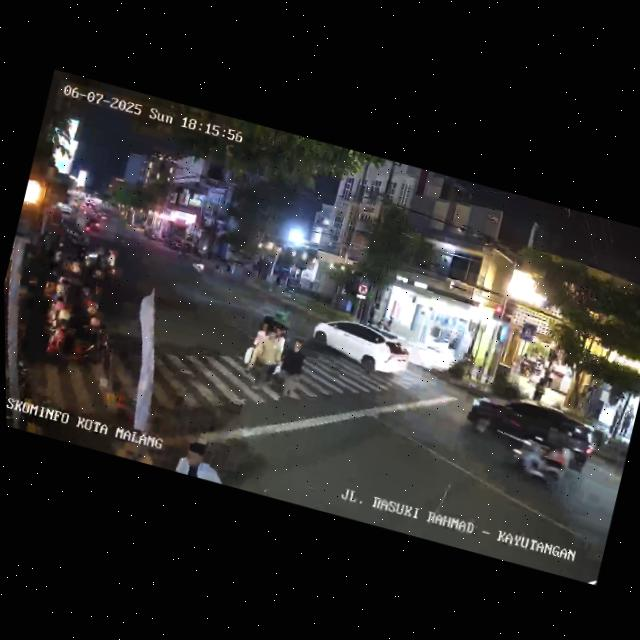car: (456, 382, 600, 484), (304, 309, 415, 385)
motorcycle: (499, 417, 576, 497), (101, 249, 124, 280), (186, 251, 209, 279)
person: (171, 434, 231, 483), (273, 334, 309, 401), (249, 324, 282, 395), (244, 319, 270, 374), (617, 405, 634, 438), (608, 402, 624, 434), (530, 372, 547, 402)
